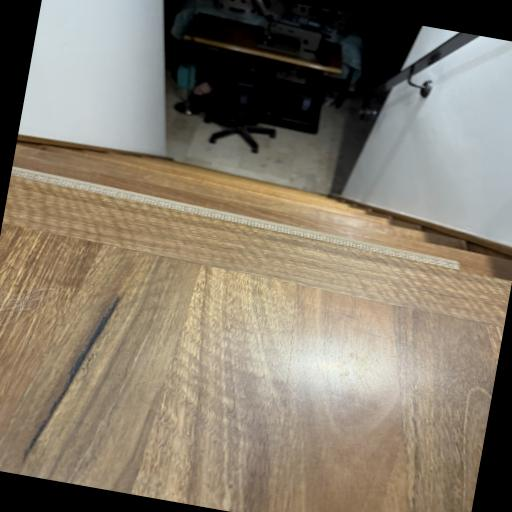stairs: (12, 142, 512, 280)
